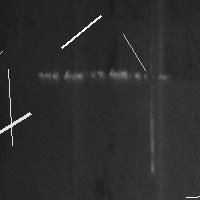scratches: (56, 11, 105, 53), (143, 74, 160, 179), (37, 69, 170, 82), (0, 108, 35, 152), (118, 29, 150, 75), (3, 64, 17, 150), (0, 46, 7, 119), (181, 188, 200, 200)
